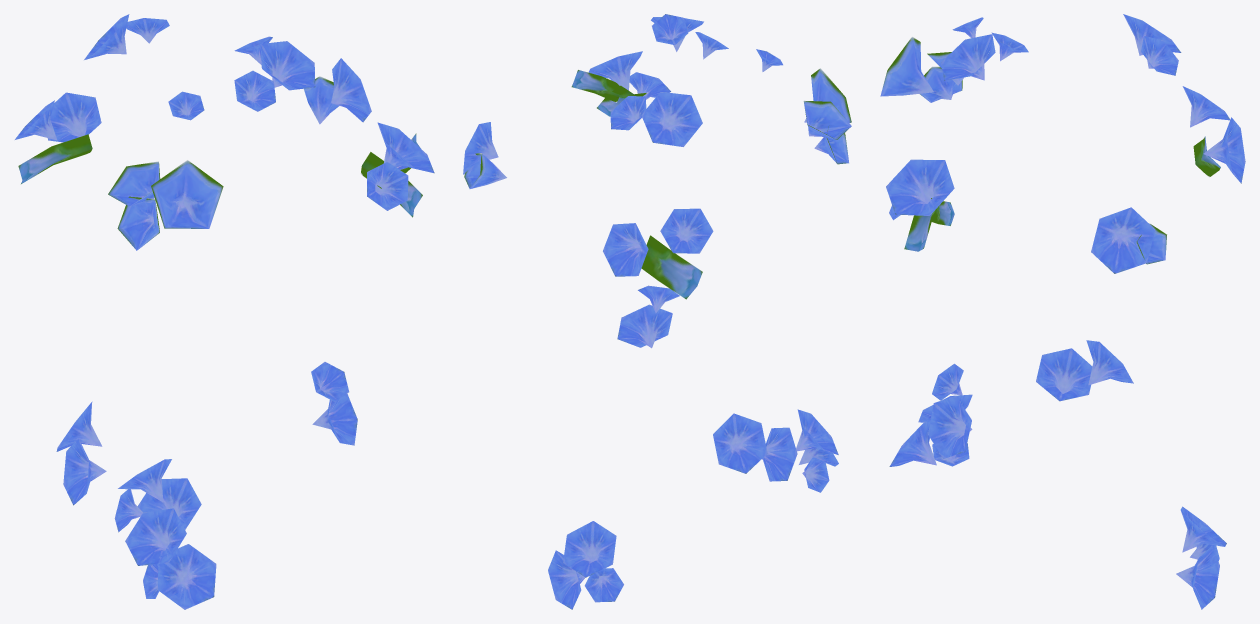
Rendered from Homeworld_Exterior_Common_Flower_Decoration_Green_03_B_Lod0.fbx.
3 renders of one model, left to right at view 1: azimuth 30°, elevation 25°; view 2: azimuth 150°, elevation 25°; view 3: azimuth 270°, elevation 25°, orthographic. The views are drawn at different scales.
Visible parts, largest first — view 1: Homeworld_Exterior_Common_Flower_Decoration_Green_03_B_Lod0; view 2: Homeworld_Exterior_Common_Flower_Decoration_Green_03_B_Lod0; view 3: Homeworld_Exterior_Common_Flower_Decoration_Green_03_B_Lod0.
Part boxes in pixels (x1,y1,x2,y2): Homeworld_Exterior_Common_Flower_Decoration_Green_03_B_Lod0: [15, 14, 434, 609]; Homeworld_Exterior_Common_Flower_Decoration_Green_03_B_Lod0: [463, 14, 851, 609]; Homeworld_Exterior_Common_Flower_Decoration_Green_03_B_Lod0: [880, 14, 1245, 609].
Bounding box in the file's own units: 0.7701 × 1.29 × 0.7583.
